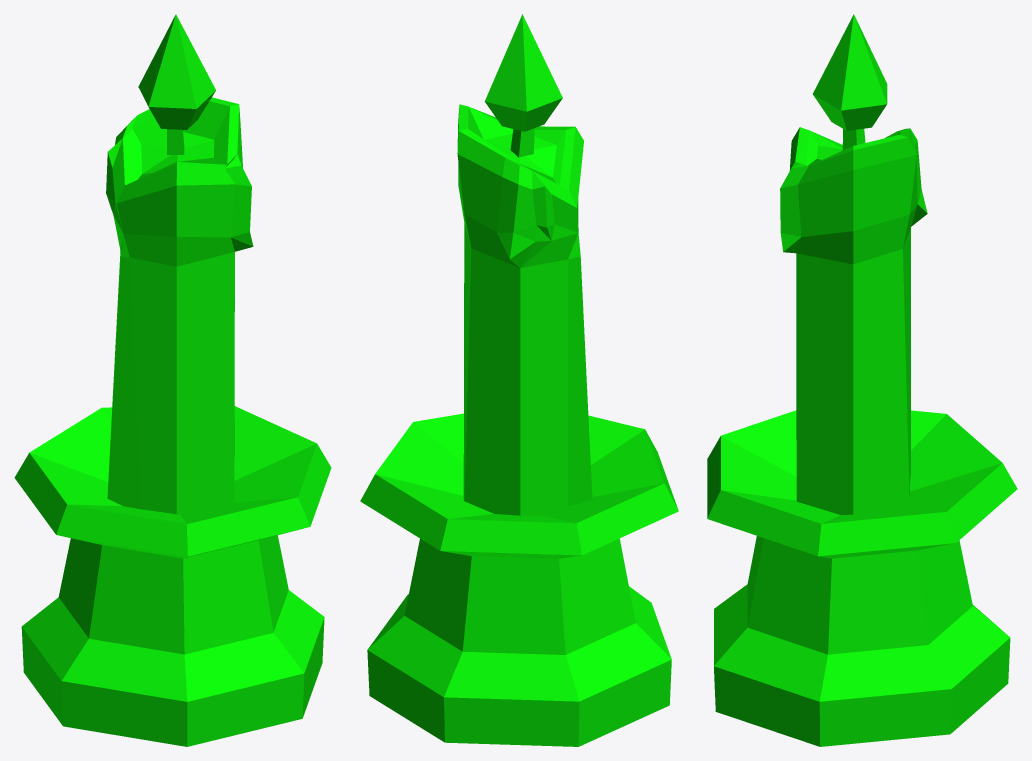
Rendered from SM_Candle_Table_A_Lit_Fantasy.fbx.
3 views of the same model, side by side, from view 1: azimuth 30°, elevation 25°; view 2: azimuth 150°, elevation 25°; view 3: azimuth 270°, elevation 25° (orthographic).
Parts seen in each view (by area): view 1: candle-table-a-lit-fantasy; view 2: candle-table-a-lit-fantasy; view 3: candle-table-a-lit-fantasy.
Part boxes in pixels (x1=…): candle-table-a-lit-fantasy: x1=14, y1=14, x2=331, y2=746; candle-table-a-lit-fantasy: x1=360, y1=14, x2=678, y2=746; candle-table-a-lit-fantasy: x1=707, y1=14, x2=1017, y2=746.
Size of the model in its own units: 0.1195 by 0.2771 by 0.1165.
